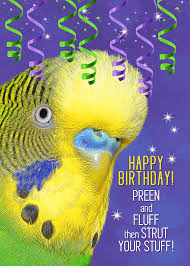budgie: (1, 49, 152, 266)
